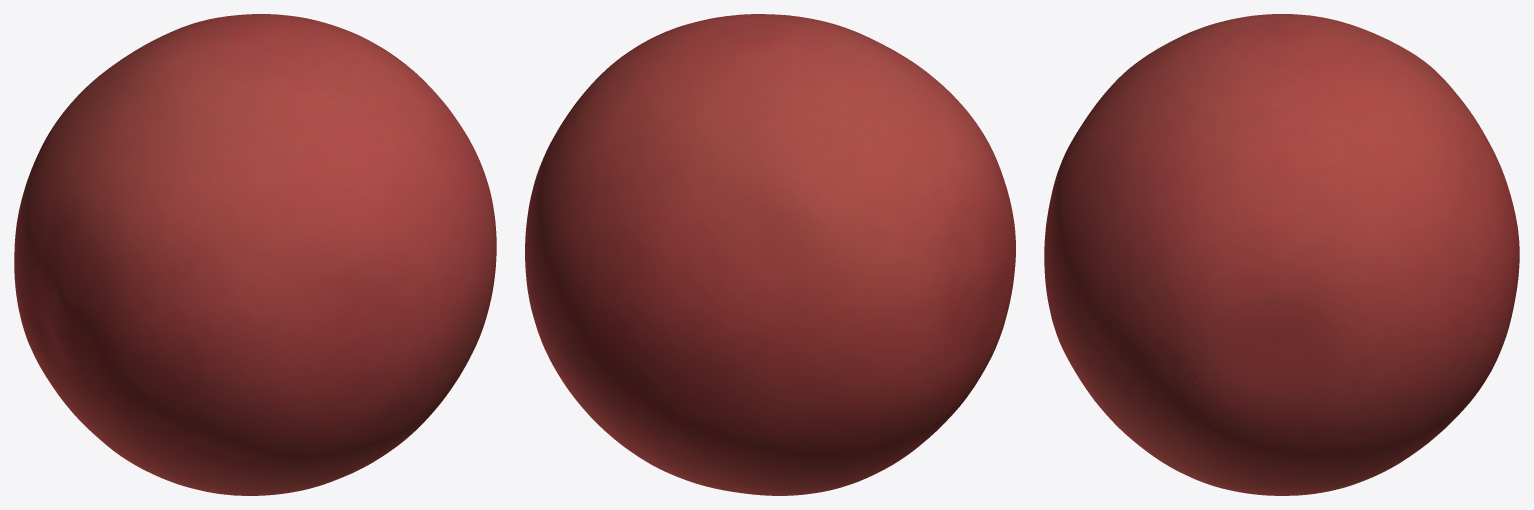
3 renders of one model, left to right at view 1: azimuth 30°, elevation 25°; view 2: azimuth 150°, elevation 25°; view 3: azimuth 270°, elevation 25°, orthographic.
Parts seen in each view (by area): view 1: Mesh; view 2: Mesh; view 3: Mesh.
Part boxes in pixels (<box>): Mesh: <box>14,14,496,495</box>; Mesh: <box>525,14,1015,495</box>; Mesh: <box>1044,14,1519,495</box>.
Size of the model in its own units: 1.93 by 1.94 by 1.94.
Materials: 1 (1 with a texture image).
